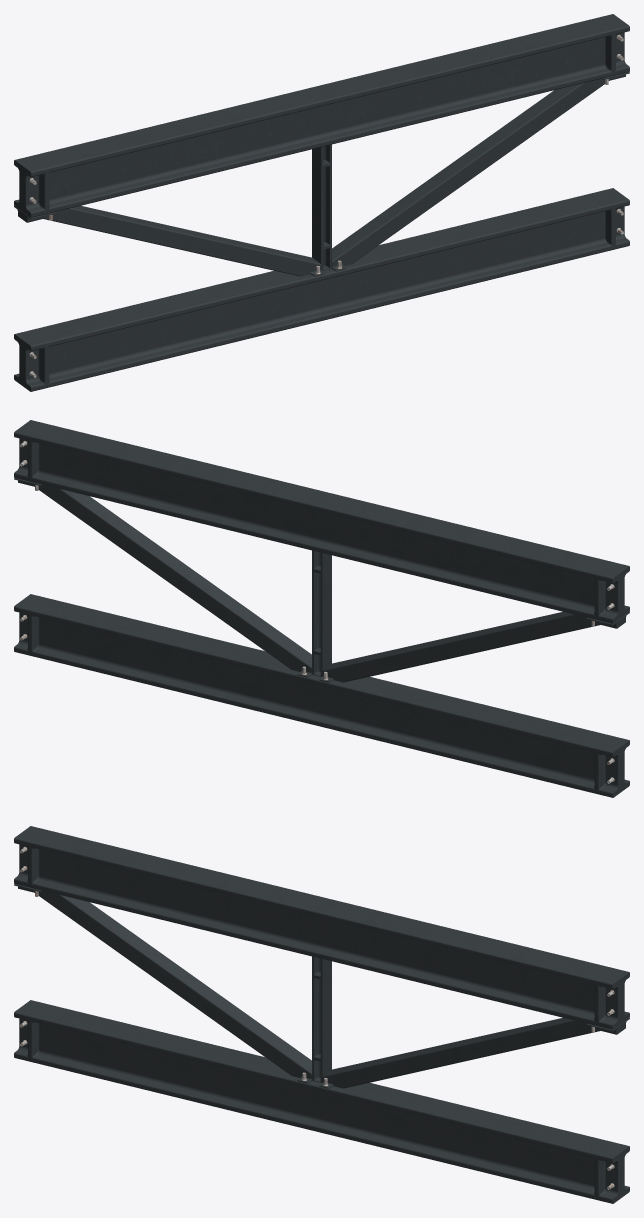
The model's file is structure_beam_a01.glb.
The picture shows the model from 3 angles, top to bottom: view 1: azimuth 30°, elevation 25°; view 2: azimuth 150°, elevation 25°; view 3: azimuth 330°, elevation 25°; orthographic projection.
Parts seen in each view (by area): view 1: body_01_mesh_00; view 2: body_01_mesh_00; view 3: body_01_mesh_00.
Boxes of the visible parts, box(x1,y1,x2,y2) form: body_01_mesh_00: box(14, 14, 629, 391); body_01_mesh_00: box(14, 420, 629, 797); body_01_mesh_00: box(14, 826, 629, 1203).
Size of the model in its own units: 5.4 by 1.9 by 0.2703.
Materials: 2 (2 with a texture image).
